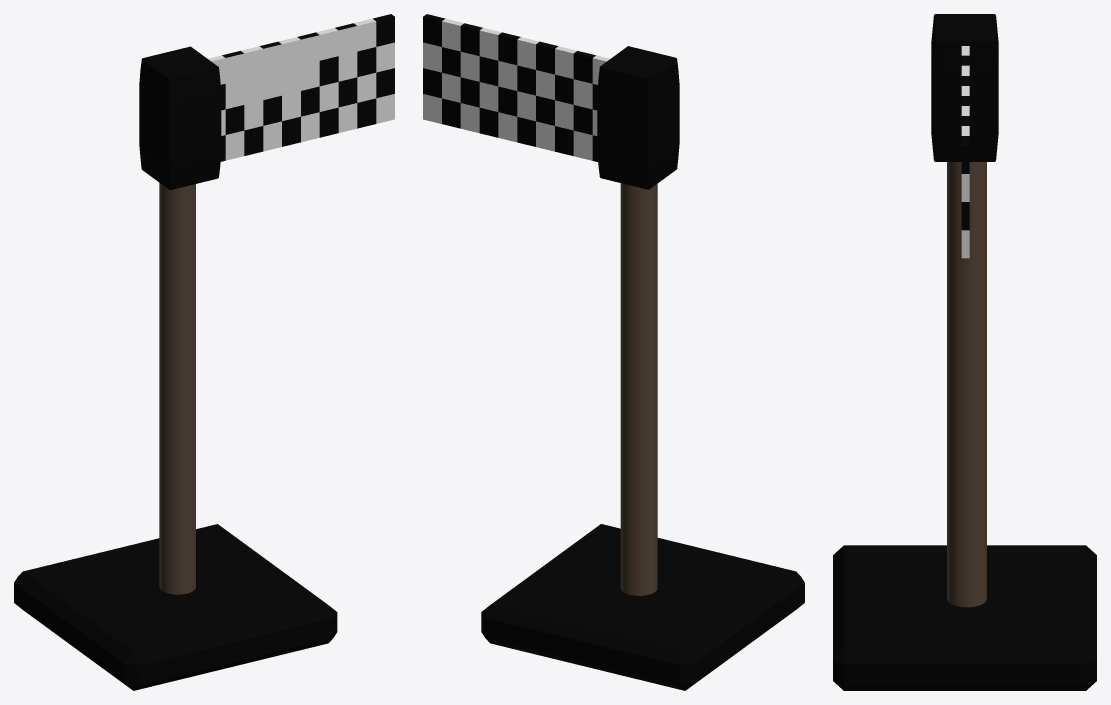
File: Finish Line Flag.fbx
3 renders of one model, left to right at view 1: azimuth 30°, elevation 25°; view 2: azimuth 150°, elevation 25°; view 3: azimuth 270°, elevation 25°, orthographic. The views are drawn at different scales.
Visible parts, largest first — view 1: pCube91, pCube92, pCylinder7, pCube93; view 2: pCube91, pCube92, pCylinder7, pCube93; view 3: pCube91, pCylinder7, pCube93, pCube92.
Boxes of the visible parts, x1,y1,x2,y2 form: pCube91: (14,524,337,690); pCube92: (208,14,394,161); pCylinder7: (159,183,195,594); pCube93: (139,46,221,190); pCube91: (481,524,804,690); pCube92: (423,14,610,161); pCylinder7: (620,183,657,595); pCube93: (597,46,679,189); pCube91: (833,545,1096,690); pCylinder7: (947,162,986,607); pCube93: (931,14,998,161); pCube92: (961,46,969,258).
Size of the model in its own units: 4.72 by 7.85 by 3.05.
